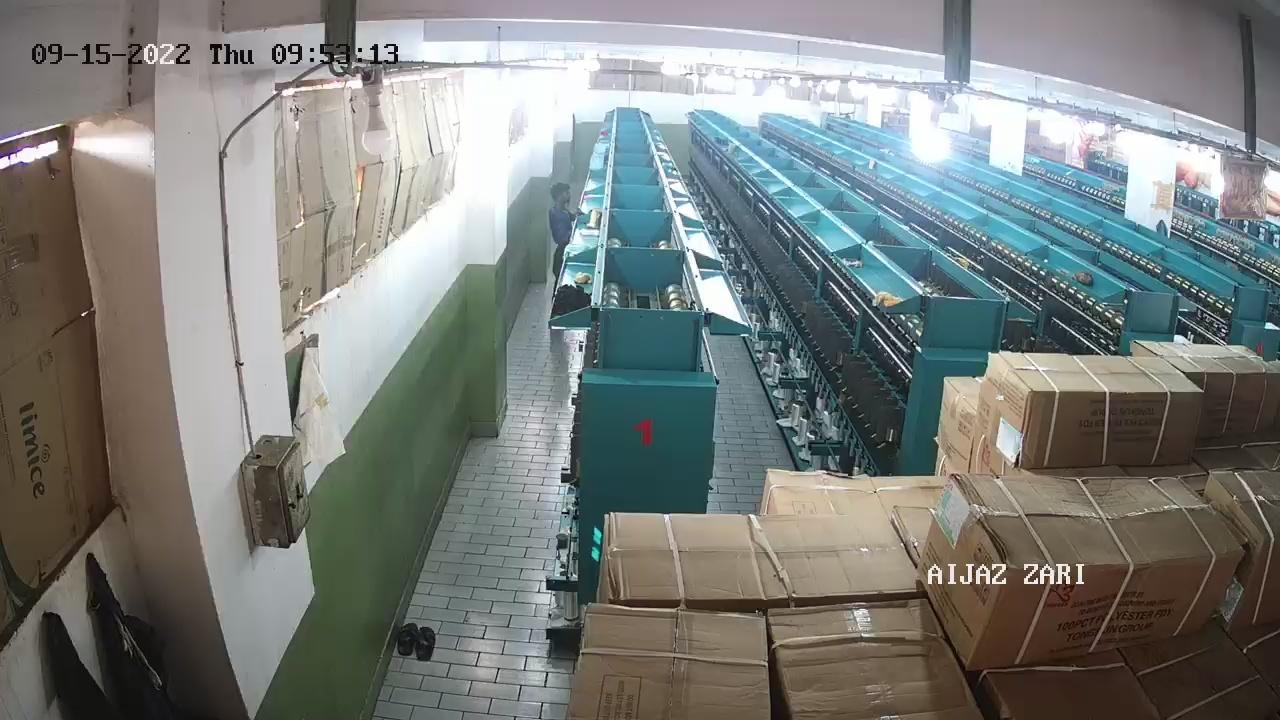person: (546, 177, 582, 296)
